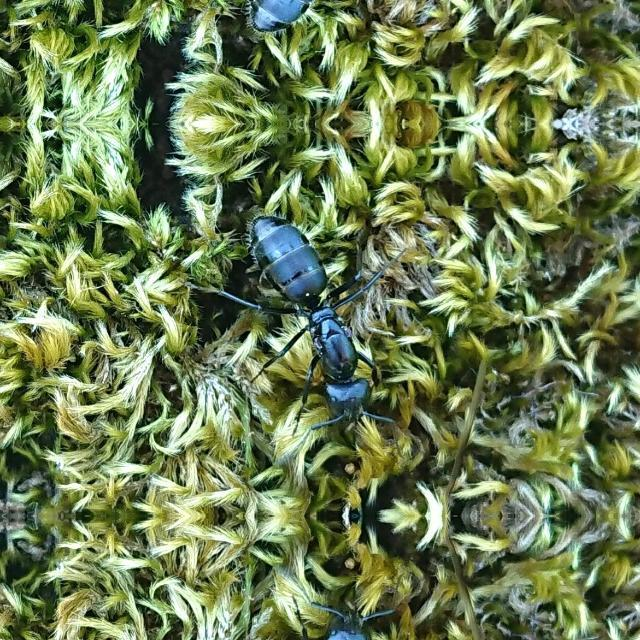Camponotus: (234, 206, 436, 454), (233, 574, 434, 640)
